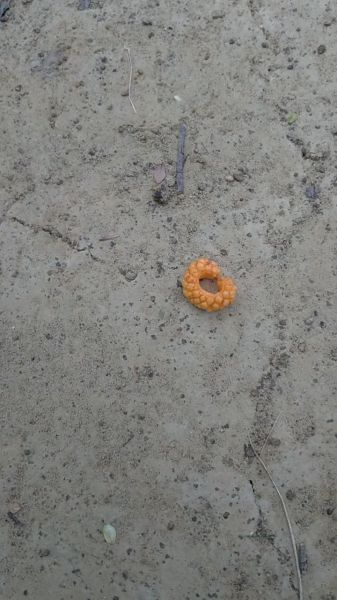eggs: (177, 252, 240, 320)
